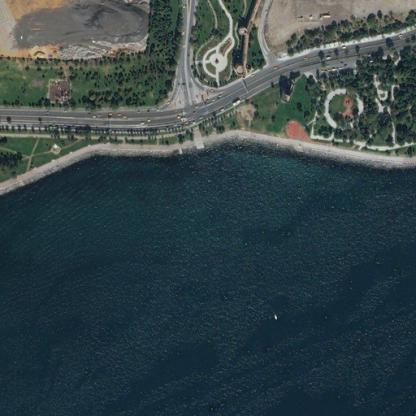ship: (273, 314, 277, 319)
